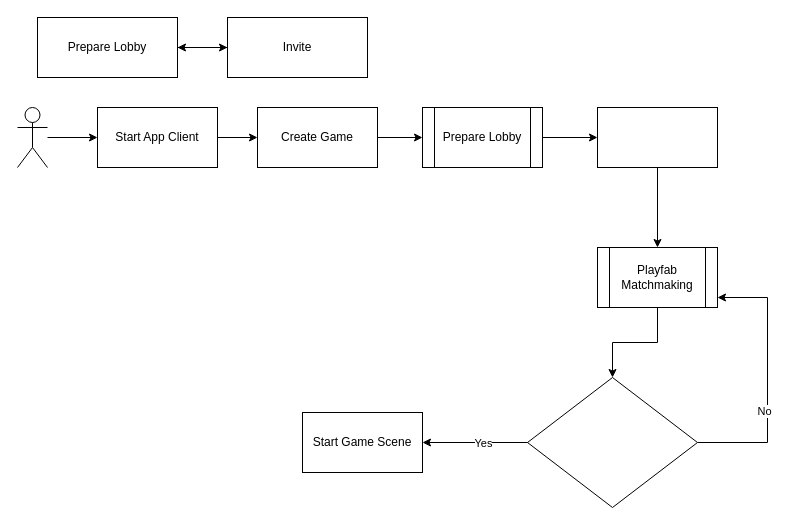
Image size: 793x525. Some labels were removed from this diagram. The shapes that lost their labels are listed below. From the top down, each one's centre as x and y in pixels, then its label:
point (32, 137): Actor
point (657, 137): Start
point (612, 442): Found minimum amount of players
